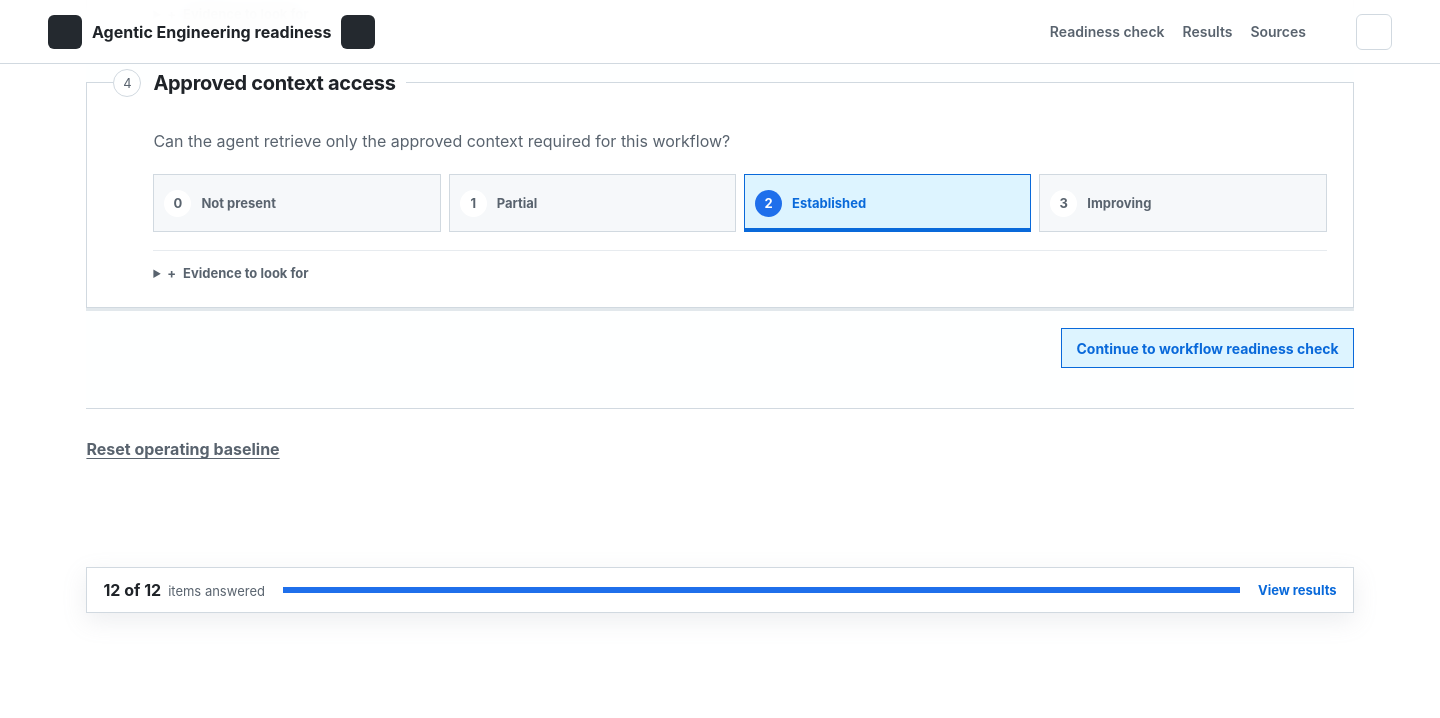
Test: App › resets the operating baseline without clearing workflow answers
(page scrolled)
Step 1. Click the button "Reset operating baseline" → x=183, y=450, box x1=86 y1=432 x2=280 y2=468
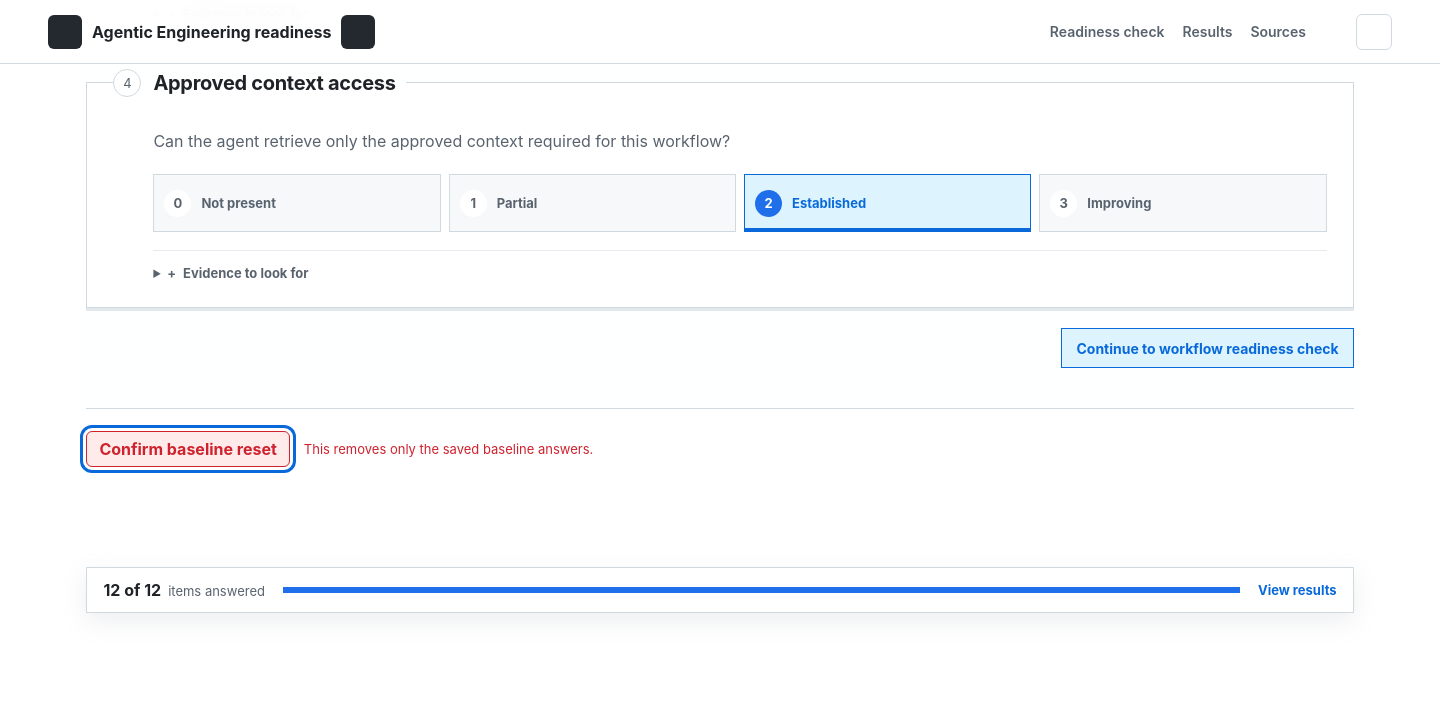
Step 2. Click the button "Confirm baseline reset" → x=188, y=450, box x1=86 y1=432 x2=290 y2=468
(page scrolled)
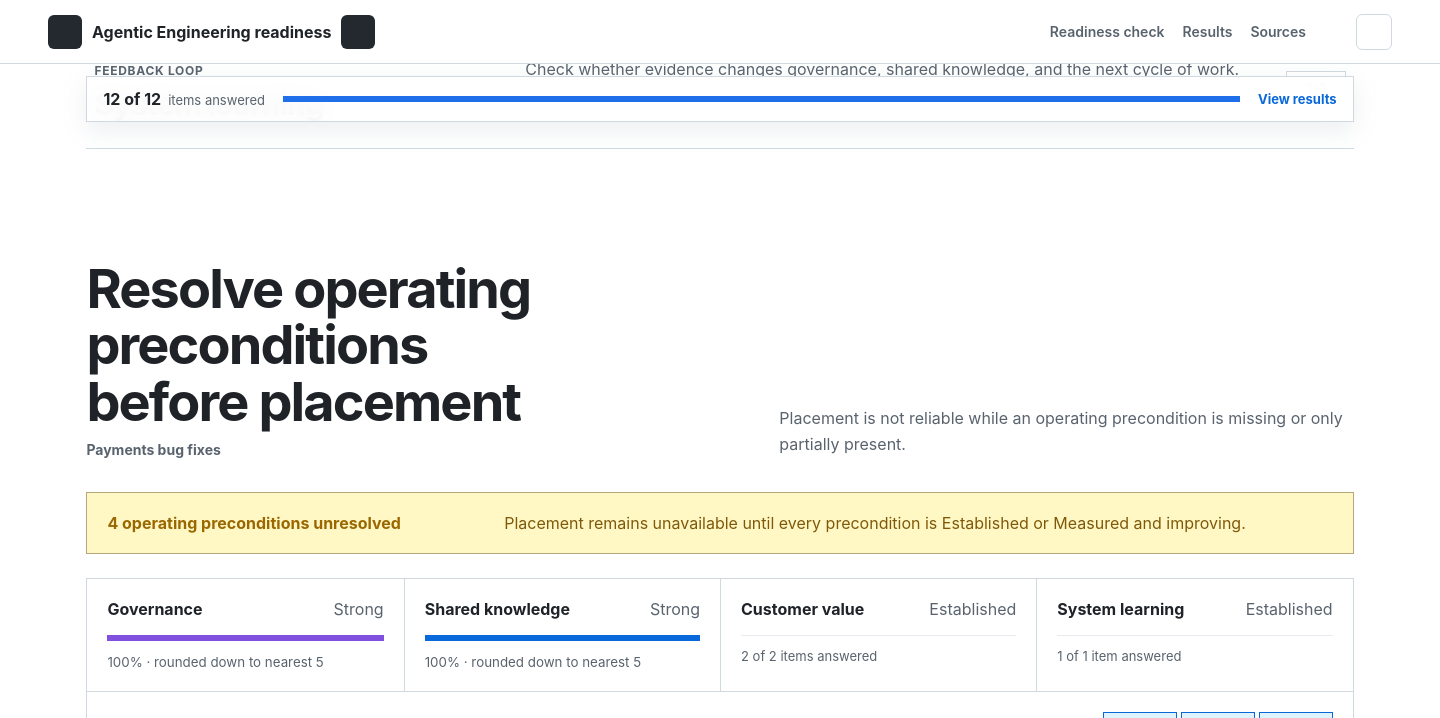
Expected: the text "Payments bug fixes" is shown, x1=86 y1=441 x2=221 y2=458
Expected: the heading "Resolve operating preconditions before placement" is shown, x1=86 y1=256 x2=530 y2=434
